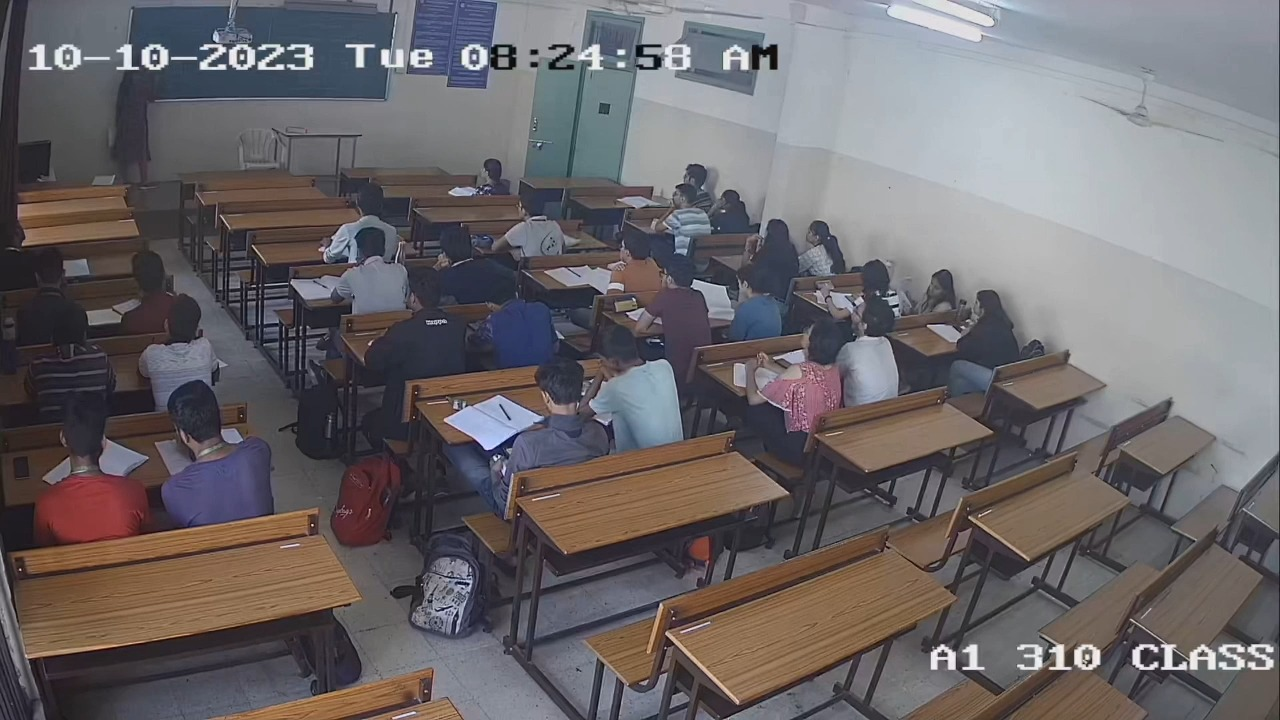cell-phones: (11, 452, 33, 482), (612, 294, 641, 312), (813, 278, 836, 293), (772, 357, 796, 371), (464, 318, 485, 333)
person: (33, 396, 151, 538), (750, 320, 844, 420), (474, 275, 559, 359), (632, 257, 711, 344), (823, 260, 905, 322)
